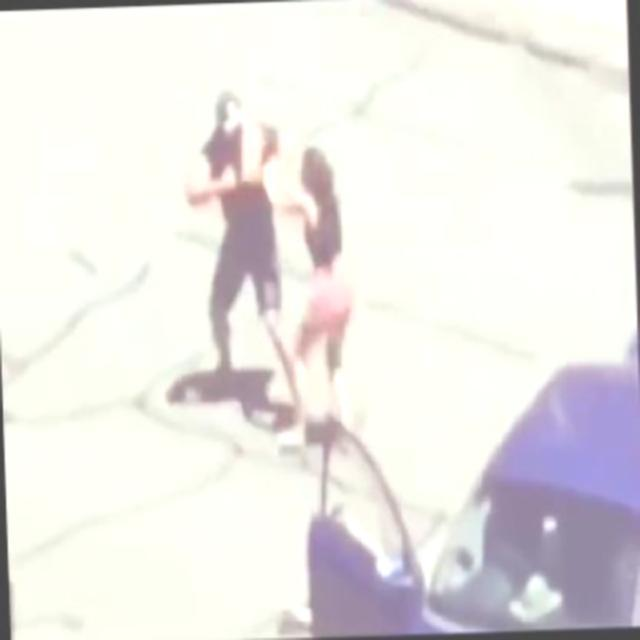fight: (181, 82, 354, 416)
